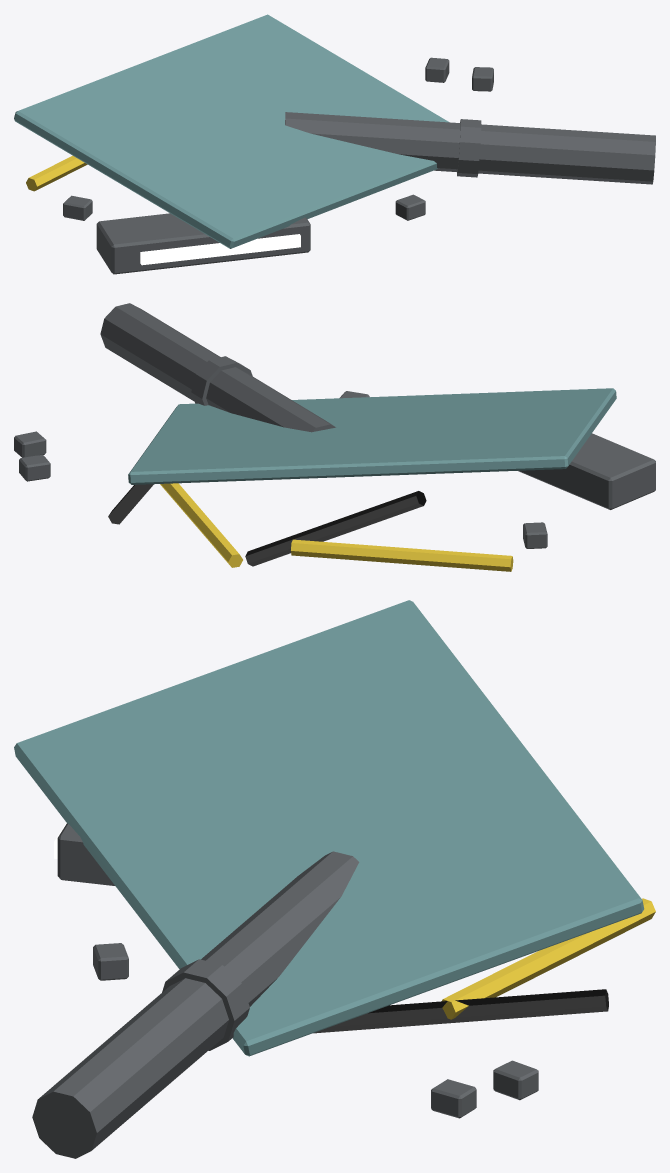
Rendered from debris_pile.glb.
3 views of the same model, one above another, from view 1: azimuth 30°, elevation 25°; view 2: azimuth 150°, elevation 25°; view 3: azimuth 270°, elevation 25° (orthographic). The views are drawn at different scales.
Parts seen in each view (by area): view 1: debris_pile; view 2: debris_pile; view 3: debris_pile.
Boxes of the visible parts, bbox=[...] form: debris_pile: bbox=[14, 14, 655, 274]; debris_pile: bbox=[14, 303, 655, 571]; debris_pile: bbox=[14, 600, 655, 1158].
Size of the model in its own units: 1.5 by 0.3057 by 1.03.
